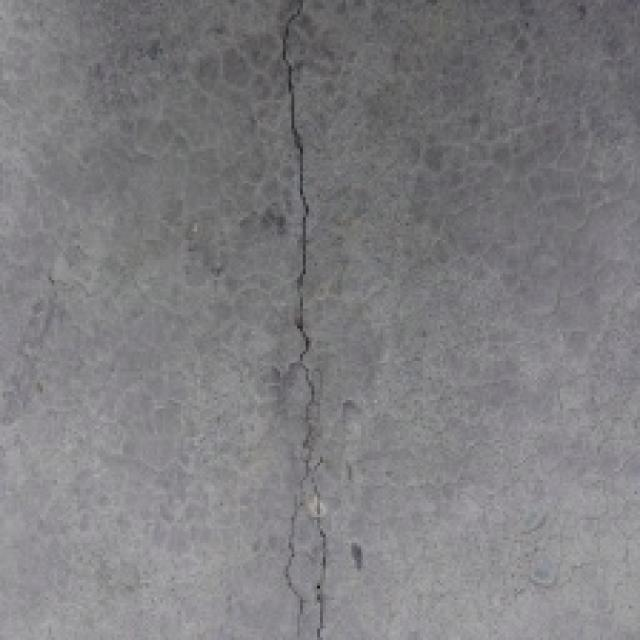crack: (256, 10, 366, 640)
